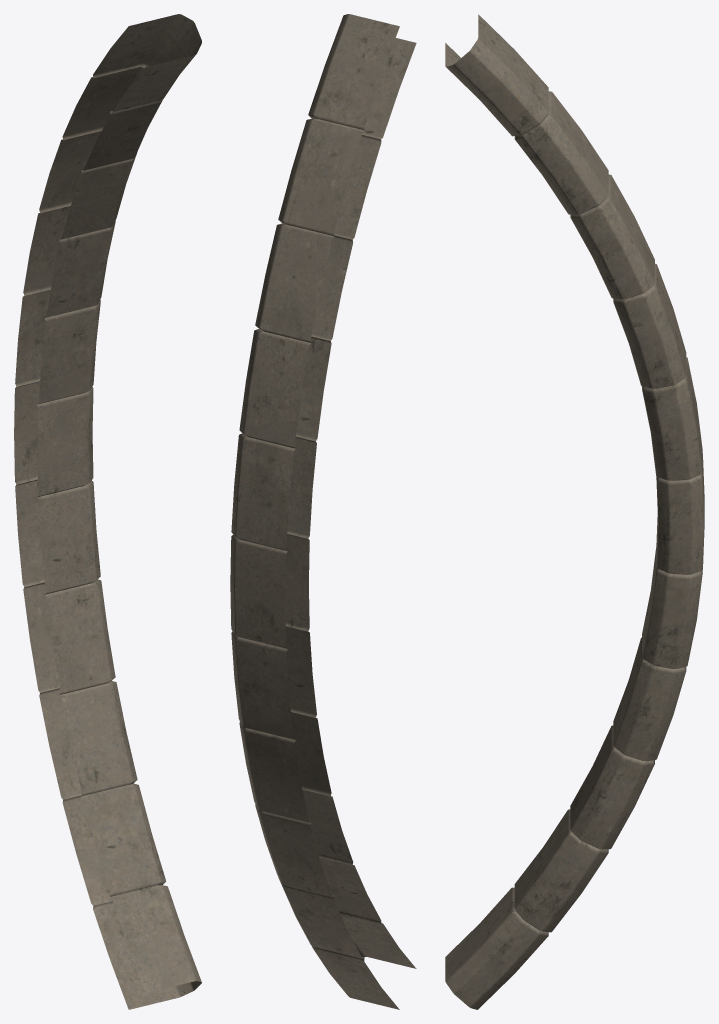
Rendered from cP_GardenLiner01_Curve45_Detailed.dae.
The picture shows the model from 3 angles, left to right: view 1: azimuth 30°, elevation 25°; view 2: azimuth 150°, elevation 25°; view 3: azimuth 270°, elevation 25°; orthographic projection.
Parts seen in each view (by area): view 1: cP_GardenLiner01_Curve45_Detailed.001; view 2: cP_GardenLiner01_Curve45_Detailed.001; view 3: cP_GardenLiner01_Curve45_Detailed.001.
Boxes of the visible parts, box(x1,y1,x2,y2) form: cP_GardenLiner01_Curve45_Detailed.001: box(14, 14, 201, 1009); cP_GardenLiner01_Curve45_Detailed.001: box(230, 14, 416, 1009); cP_GardenLiner01_Curve45_Detailed.001: box(445, 14, 704, 1009).
Bounding box in the file's own units: 0.2272 × 0.8433 × 3.48.
